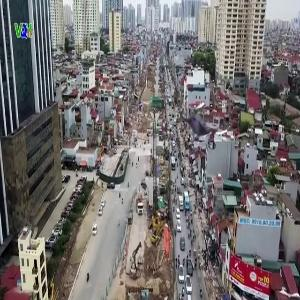drone: (177, 101, 227, 151)
